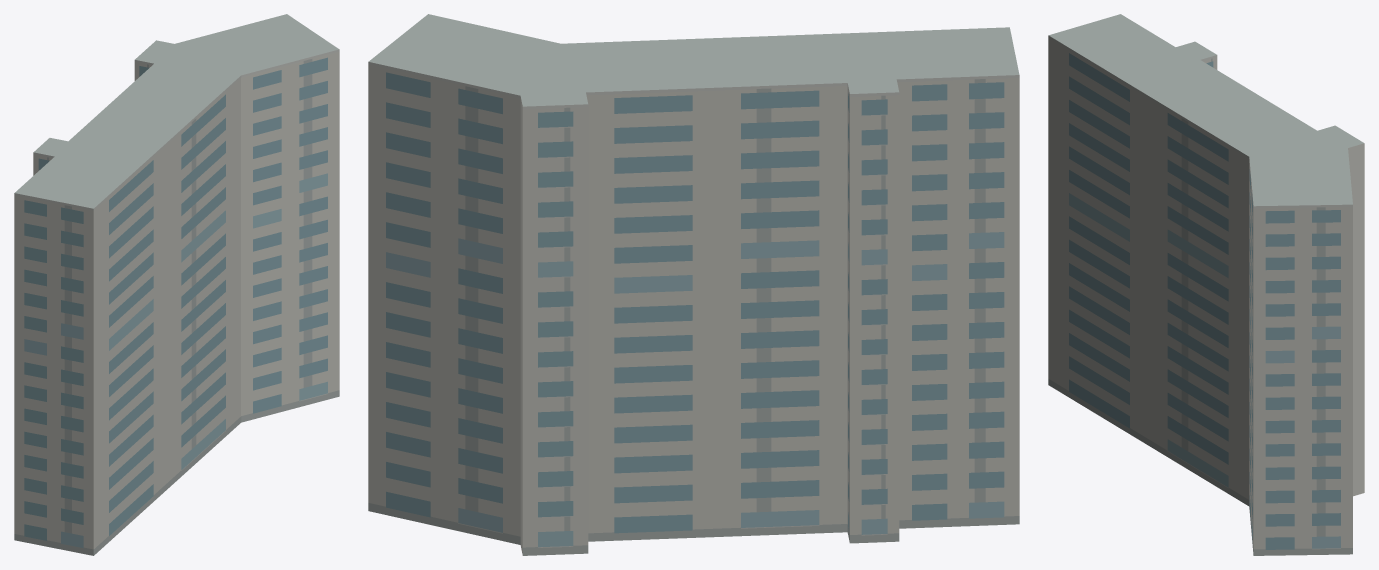
The model's file is residential-b1f20eaf-d531-464d-b75c-5f4a7062740b.glb.
3 views of the same model, side by side, from view 1: azimuth 30°, elevation 25°; view 2: azimuth 150°, elevation 25°; view 3: azimuth 270°, elevation 25° (orthographic). The views are drawn at different scales.
Parts seen in each view (by area): view 1: residential-b1f20eaf-d531-464d-b75c-5f4a7062740b.tmp; view 2: residential-b1f20eaf-d531-464d-b75c-5f4a7062740b.tmp; view 3: residential-b1f20eaf-d531-464d-b75c-5f4a7062740b.tmp.
Part boxes in pixels (x1,y1,x2,y2): residential-b1f20eaf-d531-464d-b75c-5f4a7062740b.tmp: (14, 14, 339, 555); residential-b1f20eaf-d531-464d-b75c-5f4a7062740b.tmp: (368, 14, 1019, 555); residential-b1f20eaf-d531-464d-b75c-5f4a7062740b.tmp: (1048, 14, 1364, 555).
Bounding box in the file's own units: 47.15 × 40 × 32.77.
